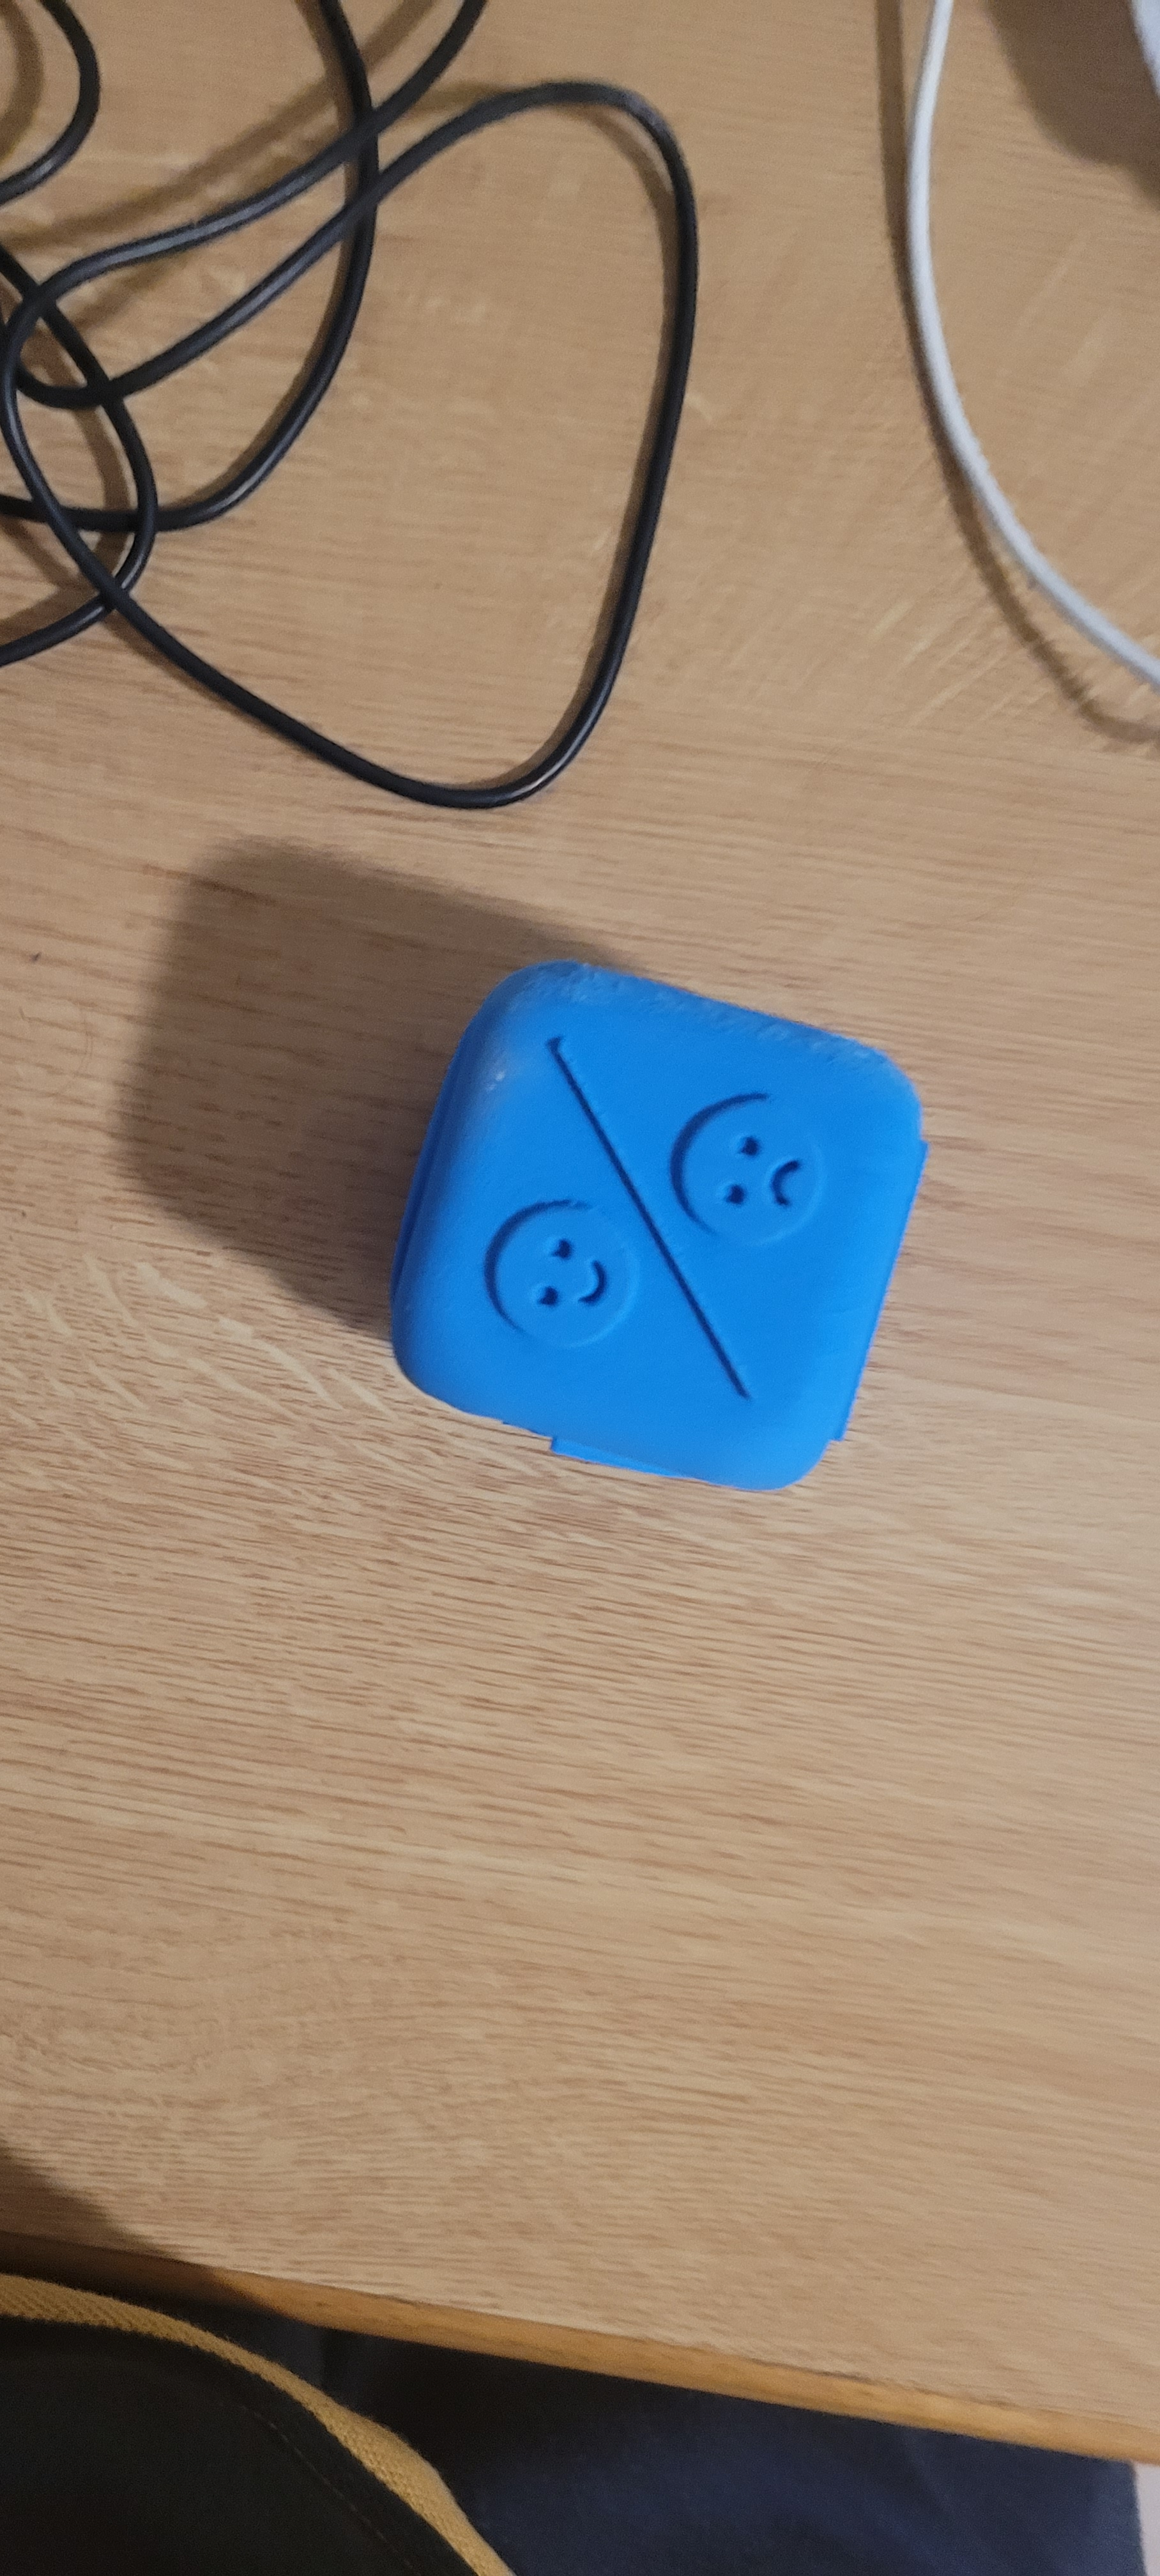Like/Dislike: (437, 1001, 871, 1444)
